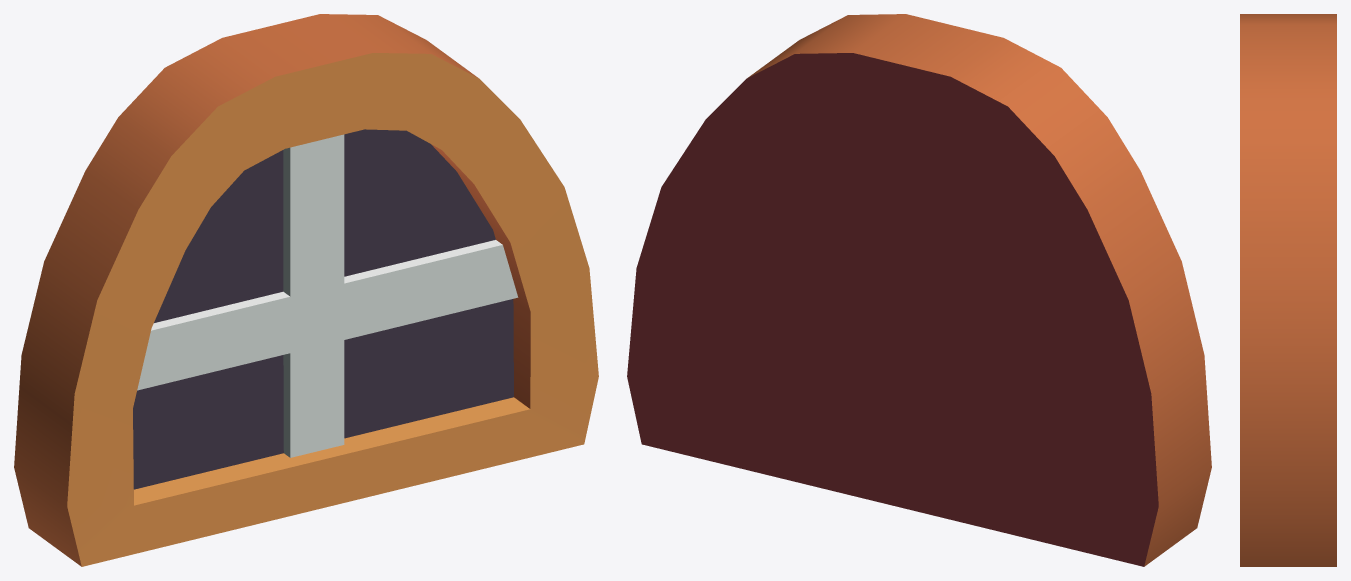
File: Window03_Orange_White.glb
3 renders of one model, left to right at view 1: azimuth 30°, elevation 25°; view 2: azimuth 150°, elevation 25°; view 3: azimuth 270°, elevation 25°, orthographic. The views are drawn at different scales.
Parts seen in each view (by area): view 1: Window03_Orange_White; view 2: Window03_Orange_White; view 3: Window03_Orange_White.
Boxes of the visible parts, x1,y1,x2,y2 form: Window03_Orange_White: [14, 14, 598, 566]; Window03_Orange_White: [627, 14, 1211, 566]; Window03_Orange_White: [1240, 14, 1336, 566].
Bounding box in the file's own units: 0.9047 × 0.7203 × 0.1565.
Materials: 1 (1 with a texture image).
